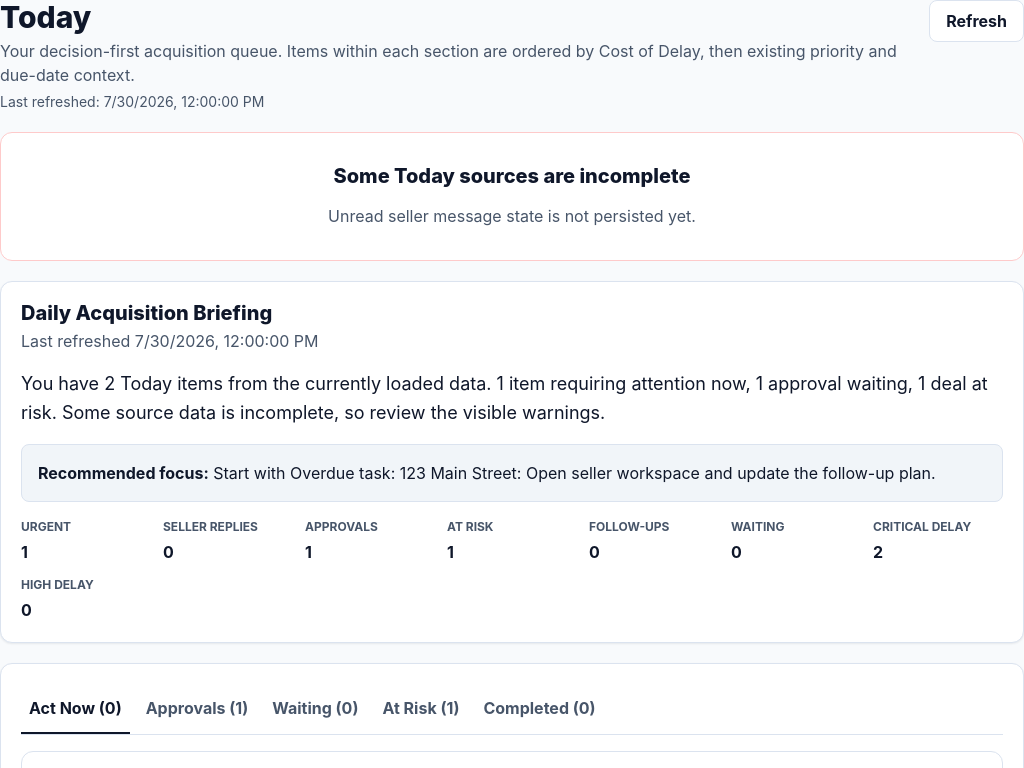
TodayWorkspace › uses safe empty states for selected empty categories
Step 1. Click the tab "Completed (0)" → point(540, 709), box [475, 684, 604, 734]
(page scrolled)
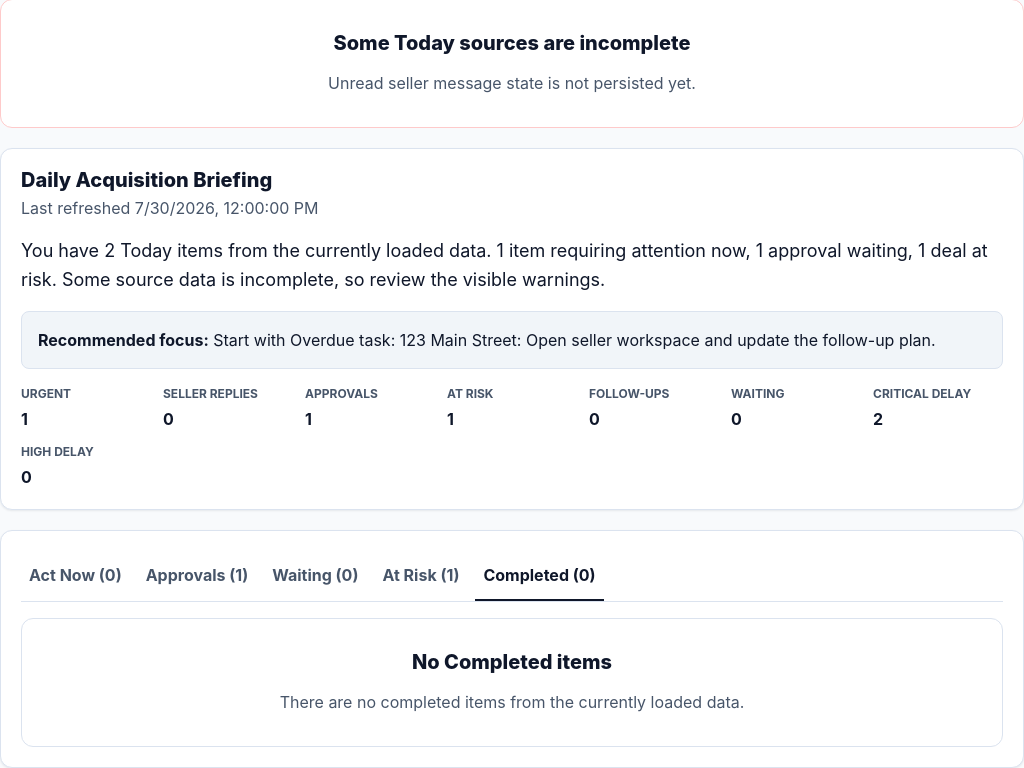
expect the heading "No Completed items" is shown: met, box [412, 651, 612, 674]
